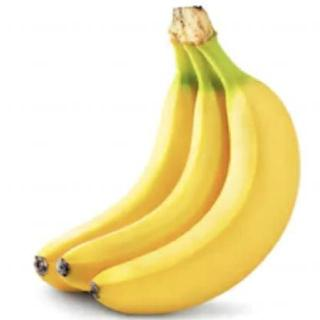banana: (90, 80, 301, 317), (57, 81, 259, 301), (33, 80, 209, 294)
